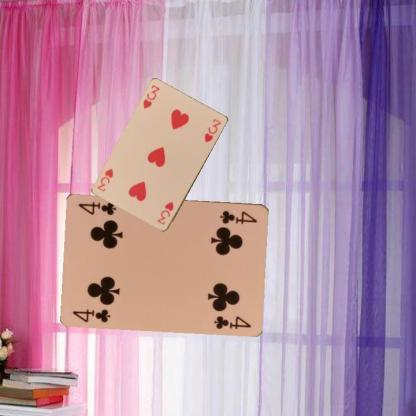3h: (140, 82, 162, 110), (155, 199, 175, 226)
4c: (70, 306, 112, 324), (218, 208, 259, 226)
